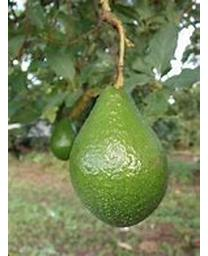avocado: (67, 83, 171, 230)
